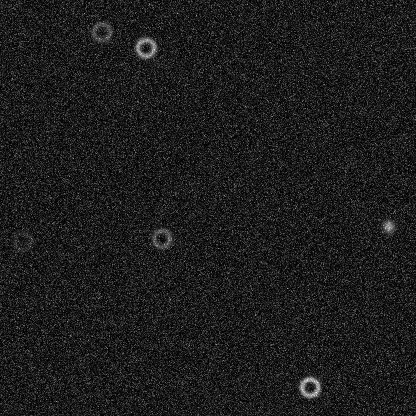Ring: (297, 375, 321, 399), (89, 19, 113, 43), (10, 229, 34, 253), (149, 226, 173, 250), (133, 35, 157, 59)
Spot: (380, 218, 396, 234)
